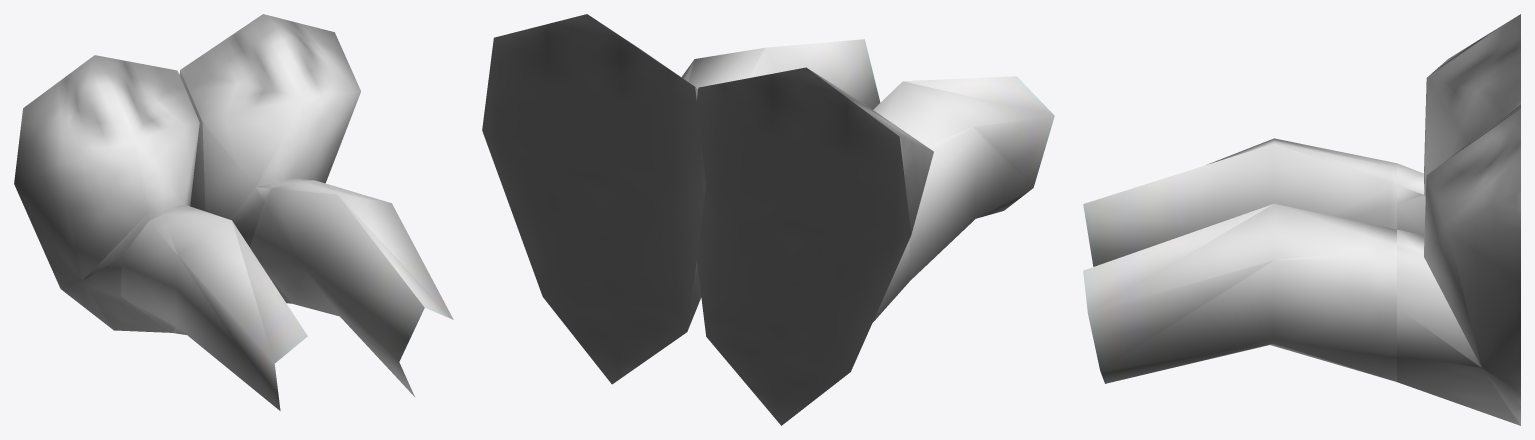
The model's file is legs_s_500.glb.
3 views of the same model, side by side, from view 1: azimuth 30°, elevation 25°; view 2: azimuth 150°, elevation 25°; view 3: azimuth 270°, elevation 25° (orthographic). The views are drawn at different scales.
Visible parts, largest first — view 1: feet, legs; view 2: feet, legs; view 3: legs, feet.
Part boxes in pixels (left/top/right/bottom): feet: left=14, top=14, right=360, bottom=332; legs: left=121, top=180, right=453, bottom=410; feet: left=482, top=14, right=933, bottom=425; legs: left=681, top=39, right=1054, bottom=280; legs: left=1083, top=138, right=1396, bottom=383; feet: left=1397, top=14, right=1520, bottom=425.
Bounding box in the file's own units: 1.33 × 1.08 × 1.31.
2 materials, 2 textured.
